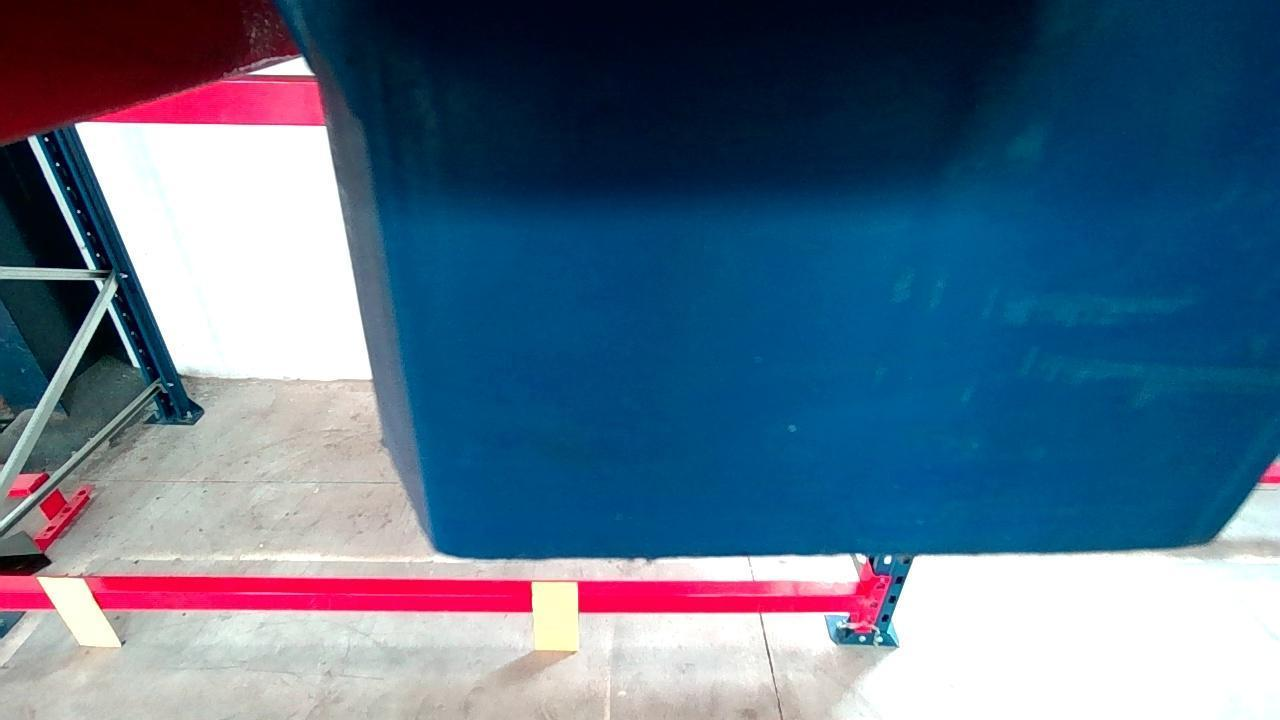h_rack: (0, 592, 852, 612), (81, 79, 324, 121)
orange_strip: (39, 575, 115, 647), (530, 582, 576, 649)
